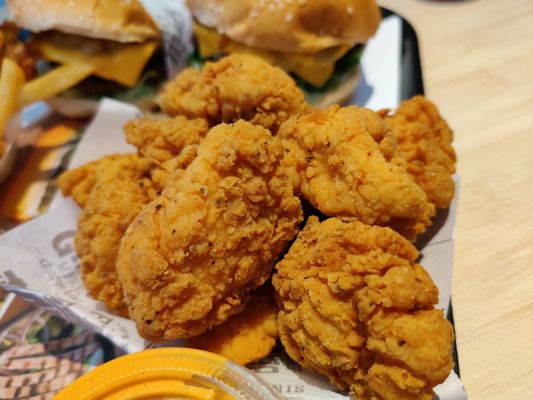soup: (184, 0, 384, 104)
sushi: (49, 347, 289, 400)
